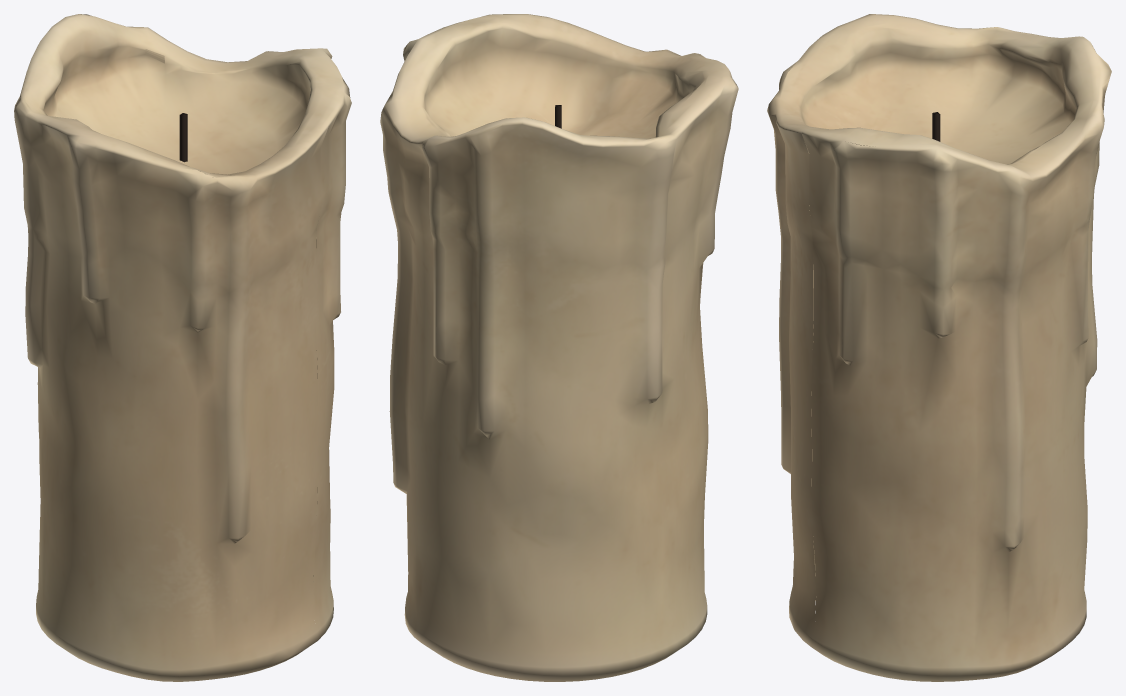
File: Candle.fbx
3 renders of one model, left to right at view 1: azimuth 30°, elevation 25°; view 2: azimuth 150°, elevation 25°; view 3: azimuth 270°, elevation 25°, orthographic.
Parts seen in each view (by area): view 1: Object_2.006; view 2: Object_2.006; view 3: Object_2.006.
Part boxes in pixels (x1,y1,x2,y2): Object_2.006: (14,14,351,681); Object_2.006: (380,14,738,681); Object_2.006: (767,14,1111,681).
Bounding box in the file's own units: 1242 × 2294 × 1269.
